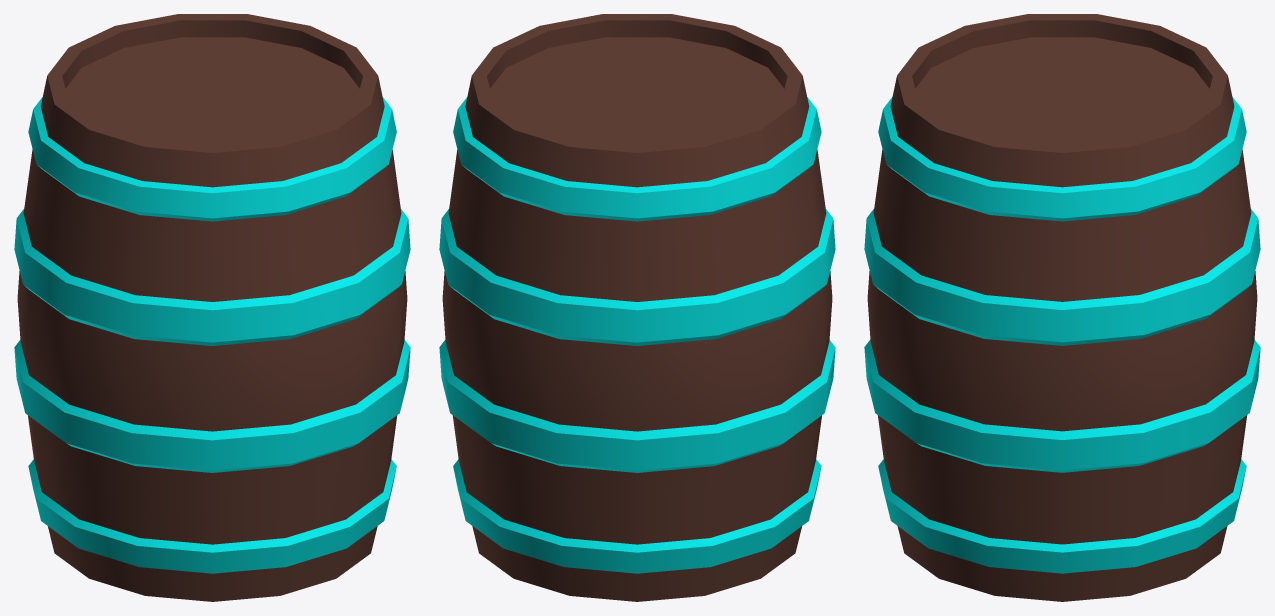
File: Tonneau.fbx
The picture shows the model from 3 angles, left to right: view 1: azimuth 30°, elevation 25°; view 2: azimuth 150°, elevation 25°; view 3: azimuth 270°, elevation 25°; orthographic projection.
Visible parts, largest first — view 1: tonneau; view 2: tonneau; view 3: tonneau.
Part boxes in pixels (x1,y1,x2,y2): tonneau: (14, 14, 410, 601); tonneau: (439, 14, 835, 601); tonneau: (864, 14, 1260, 601).
Size of the model in its own units: 1.18 by 1.49 by 1.19.
